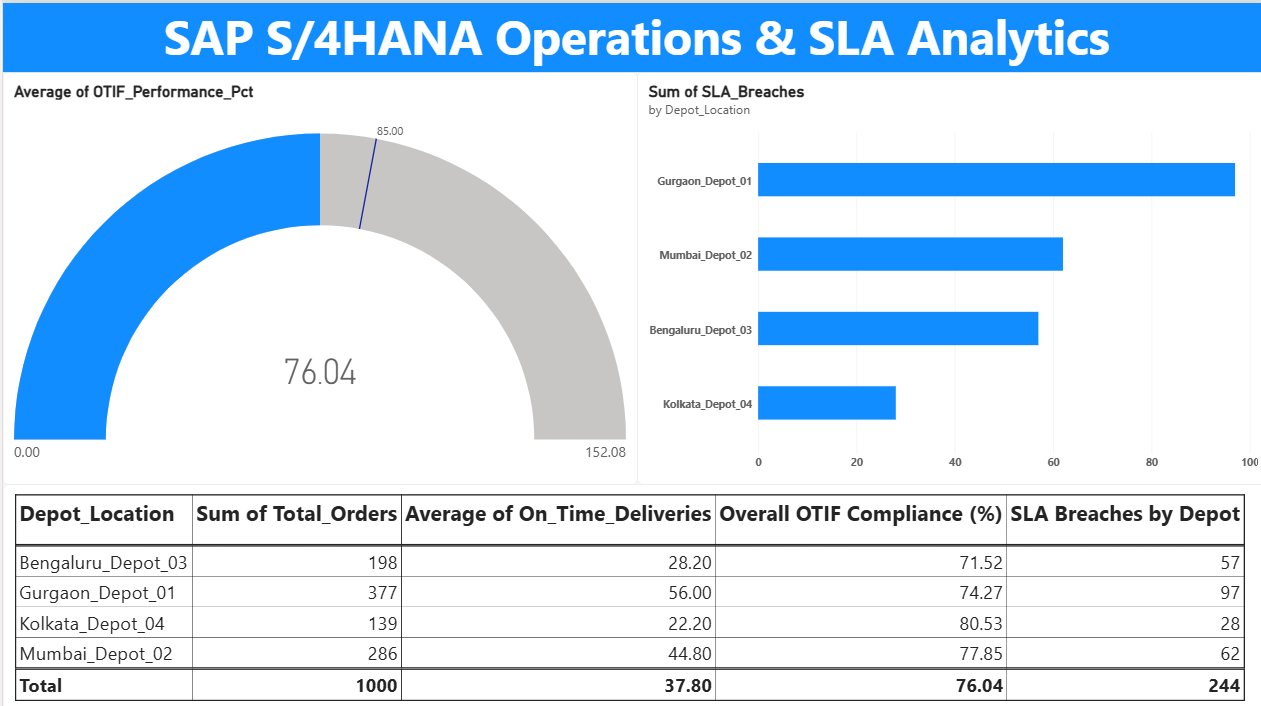

The page's visual inventory and layout, read from the dashboard file:
{"tool":"powerbi","page":{"name":"Page 1","canvas":[1920,1080],"ordinal":0},"visuals":[{"type":"gauge","fields":{"Y":["Avg(sap_sla_kpi_summary.OTIF_Performance_Pct)"]},"box":[0,104.5,960.8,624.6],"z":0},{"type":"clusteredBarChart","fields":{"Category":["sap_sla_kpi_summary.Depot_Location"],"Y":["Sum(sap_sla_kpi_summary.SLA_Breaches)"]},"box":[960.8,104.5,958.5,624.6],"z":1},{"type":"tableEx","fields":{"Values":["sap_sla_kpi_summary.Depot_Location","Sum(sap_sla_kpi_summary.Total_Orders)","Avg(sap_sla_kpi_summary.On_Time_Deliveries)","Avg(sap_sla_kpi_summary.OTIF_Performance_Pct)","Sum(sap_sla_kpi_summary.SLA_Breaches)"]},"box":[0,728.5,1919.1,351.5],"z":2},{"type":"textbox","box":[0,0,1919.1,104.9],"z":3}]}

Visuals, with their boxes in screenshot pixels (x1, y1, x2, y2), scaled from the page's 1920x1080 canvas onto the 1261x706 screenshot:
gauge - Avg(sap_sla_kpi_summary.OTIF_Performance_Pct): rect(0, 68, 631, 477)
clusteredBarChart - sap_sla_kpi_summary.Depot_Location x Sum(sap_sla_kpi_summary.SLA_Breaches): rect(631, 68, 1260, 477)
tableEx - sap_sla_kpi_summary.Depot_Location x Sum(sap_sla_kpi_summary.Total_Orders): rect(0, 476, 1260, 705)
textbox: rect(0, 0, 1260, 69)
